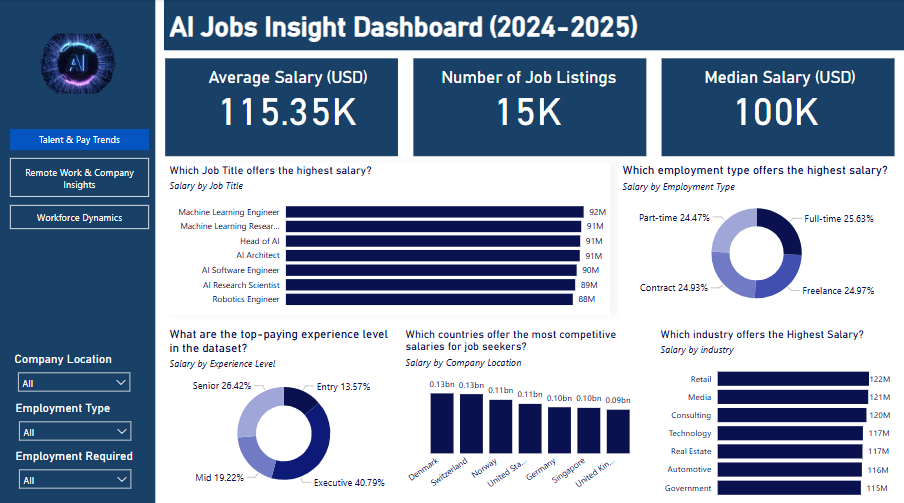

Layout of this report page (visuals, bound fields, positions):
{"tool":"powerbi","page":{"name":"Talent & Pay Trends","canvas":[1280,720],"ordinal":0},"visuals":[{"type":"columnChart","title":"Which countries offer the most competitive salaries for job seekers?","fields":{"Category":["AI_Jobs.company_location"],"Y":["Sum(AI_Jobs.salary_usd)"]},"box":[569.8,464.9,345.8,242.4],"z":0},{"type":"barChart","title":"Which industry offers the Highest Salary? ","fields":{"Category":["AI_Jobs.industry"],"Y":["Sum(AI_Jobs.salary_usd)"]},"box":[930.6,465.3,336,253.6],"z":1000},{"type":"card","fields":{"Values":["AI_Jobs.Average Salary"]},"box":[240.2,79,334.3,146.1],"z":2000},{"type":"card","fields":{"Values":["AI_Jobs.Total Job Postings"]},"box":[579.5,79,336,146.1],"z":3000},{"type":"card","fields":{"Values":["Median(AI_Jobs.salary_usd)"]},"box":[930.6,79,336,146.1],"z":4000},{"type":"clusteredBarChart","title":"Which Job Title offers the highest salary?","fields":{"Category":["AI_Jobs.job_title"],"Y":["Sum(AI_Jobs.salary_usd)"]},"box":[235.3,232.4,629.3,215.4],"z":5000},{"type":"donutChart","title":"Which employment type offers the highest salary?","fields":{"Category":["AI_Jobs.employment_type"],"Y":["Sum(AI_Jobs.salary_usd)"]},"box":[877.3,232.4,389.8,215.4],"z":6000},{"type":"donutChart","title":"What are the top-paying experience level in the dataset?","fields":{"Y":["Sum(AI_Jobs.salary_usd)"],"Series":["AI_Jobs.experience_level"]},"box":[235.2,465.3,334.3,241.9],"z":7000},{"type":"textbox","box":[944,92.4,322.5,38.6],"z":8000},{"type":"textbox","box":[587.9,92.4,322.5,38.6],"z":9000},{"type":"textbox","box":[246.9,92.4,322.5,38.6],"z":10000},{"type":"actionButton","title":"Career Ladder","box":[14.2,292,197,34],"z":11000},{"type":"textbox","box":[235.3,11.3,708.7,55.3],"z":12000},{"type":"slicer","title":"Employment Type","fields":{"Values":["AI_Jobs.remote_status"]},"box":[17,569.8,178.6,68],"z":13000},{"type":"actionButton","title":"Work Flexibility Insights","box":[14.2,225.4,197,55.3],"z":15000},{"type":"actionButton","title":"Talent & Pay Trends","box":[14.2,184.3,197,29.8],"z":16000},{"type":"slicer","title":"Employment Required","fields":{"Values":["AI_Jobs.education_required"]},"box":[17,637.8,178.6,69.4],"z":17000},{"type":"slicer","title":"Company Location","fields":{"Values":["AI_Jobs.company_location"]},"box":[15.6,500.3,178.6,69.4],"z":18000},{"type":"image","box":[32.6,9.9,161.6,163],"z":19000}]}

Visuals, with their boxes in screenshot pixels (x1, y1, x2, y2), scaled from the page's 1280x720 canvas onto the 904x503 screenshot:
"Which countries offer the most competitive salaries for job seekers?" columnChart: box=[402, 325, 647, 494]
"Which industry offers the Highest Salary? " barChart: box=[657, 325, 895, 502]
card - AI_Jobs.Average Salary: box=[170, 55, 406, 157]
card - AI_Jobs.Total Job Postings: box=[409, 55, 647, 157]
card - Median(AI_Jobs.salary_usd): box=[657, 55, 895, 157]
"Which Job Title offers the highest salary?" clusteredBarChart: box=[166, 162, 611, 313]
"Which employment type offers the highest salary?" donutChart: box=[620, 162, 895, 313]
"What are the top-paying experience level in the dataset?" donutChart: box=[166, 325, 402, 494]
textbox: box=[667, 65, 894, 92]
textbox: box=[415, 65, 643, 92]
textbox: box=[174, 65, 402, 92]
"Career Ladder" actionButton: box=[10, 204, 149, 228]
textbox: box=[166, 8, 667, 47]
"Employment Type" slicer: box=[12, 398, 138, 446]
"Work Flexibility Insights" actionButton: box=[10, 157, 149, 196]
"Talent & Pay Trends" actionButton: box=[10, 129, 149, 150]
"Employment Required" slicer: box=[12, 446, 138, 494]
"Company Location" slicer: box=[11, 350, 137, 398]
image: box=[23, 7, 137, 121]
